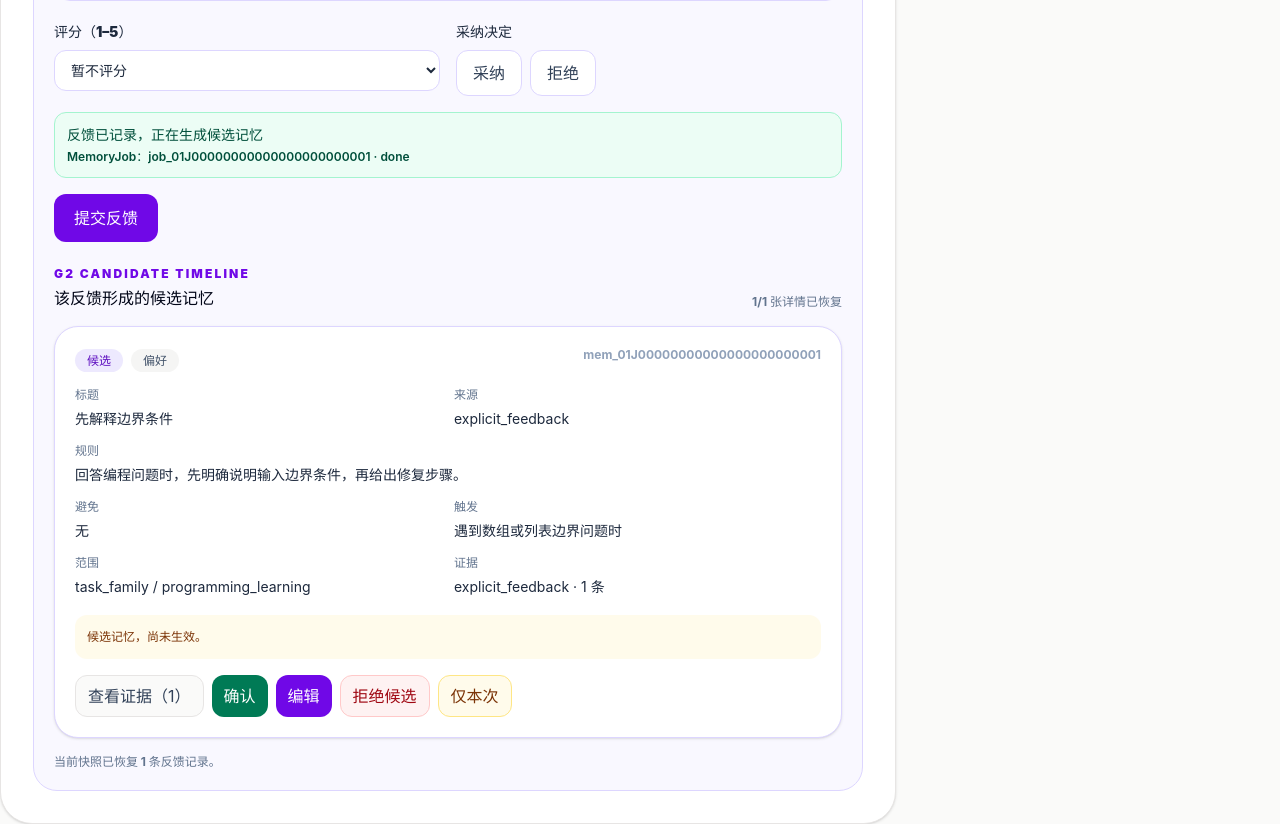
Test: Day 3 G2 owner flow › submits the one_shot disposition with its own key
(page scrolled)
Click the button "仅本次".
click(475, 696)  # box top-left (438, 675), bottom-right (512, 717)
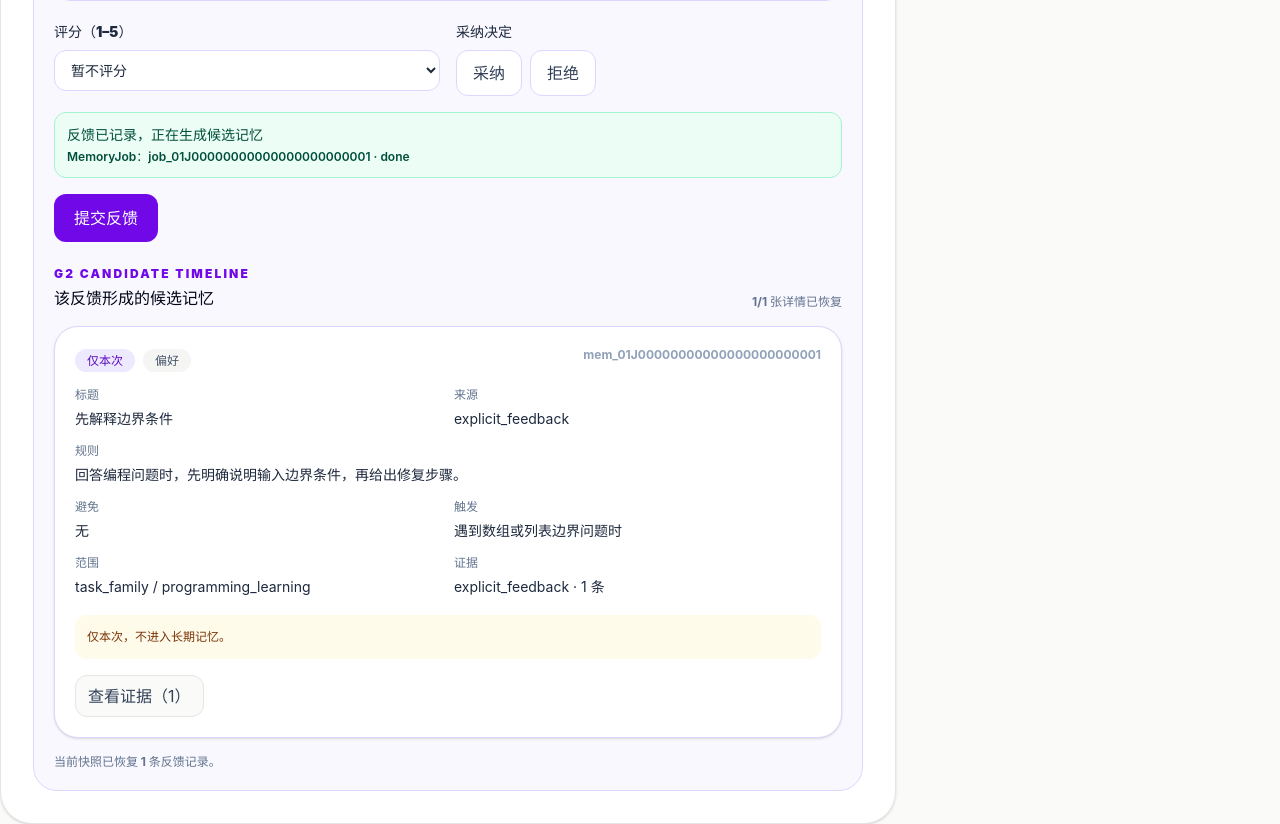
Now the text "仅本次，不进入长期记忆。" is shown, box top-left (75, 615), bottom-right (821, 659)
